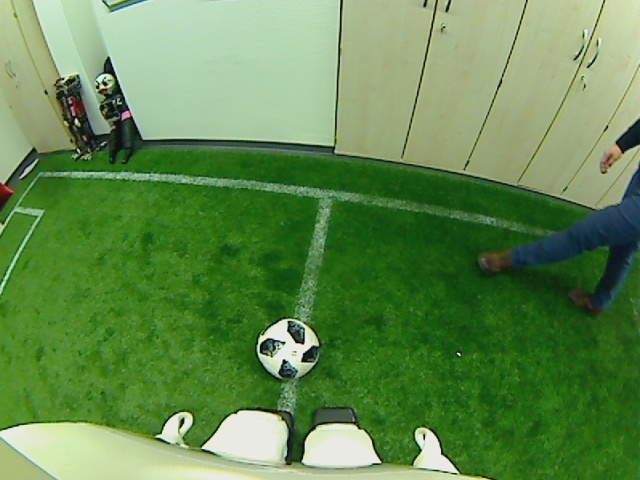ball: (254, 315, 322, 382)
